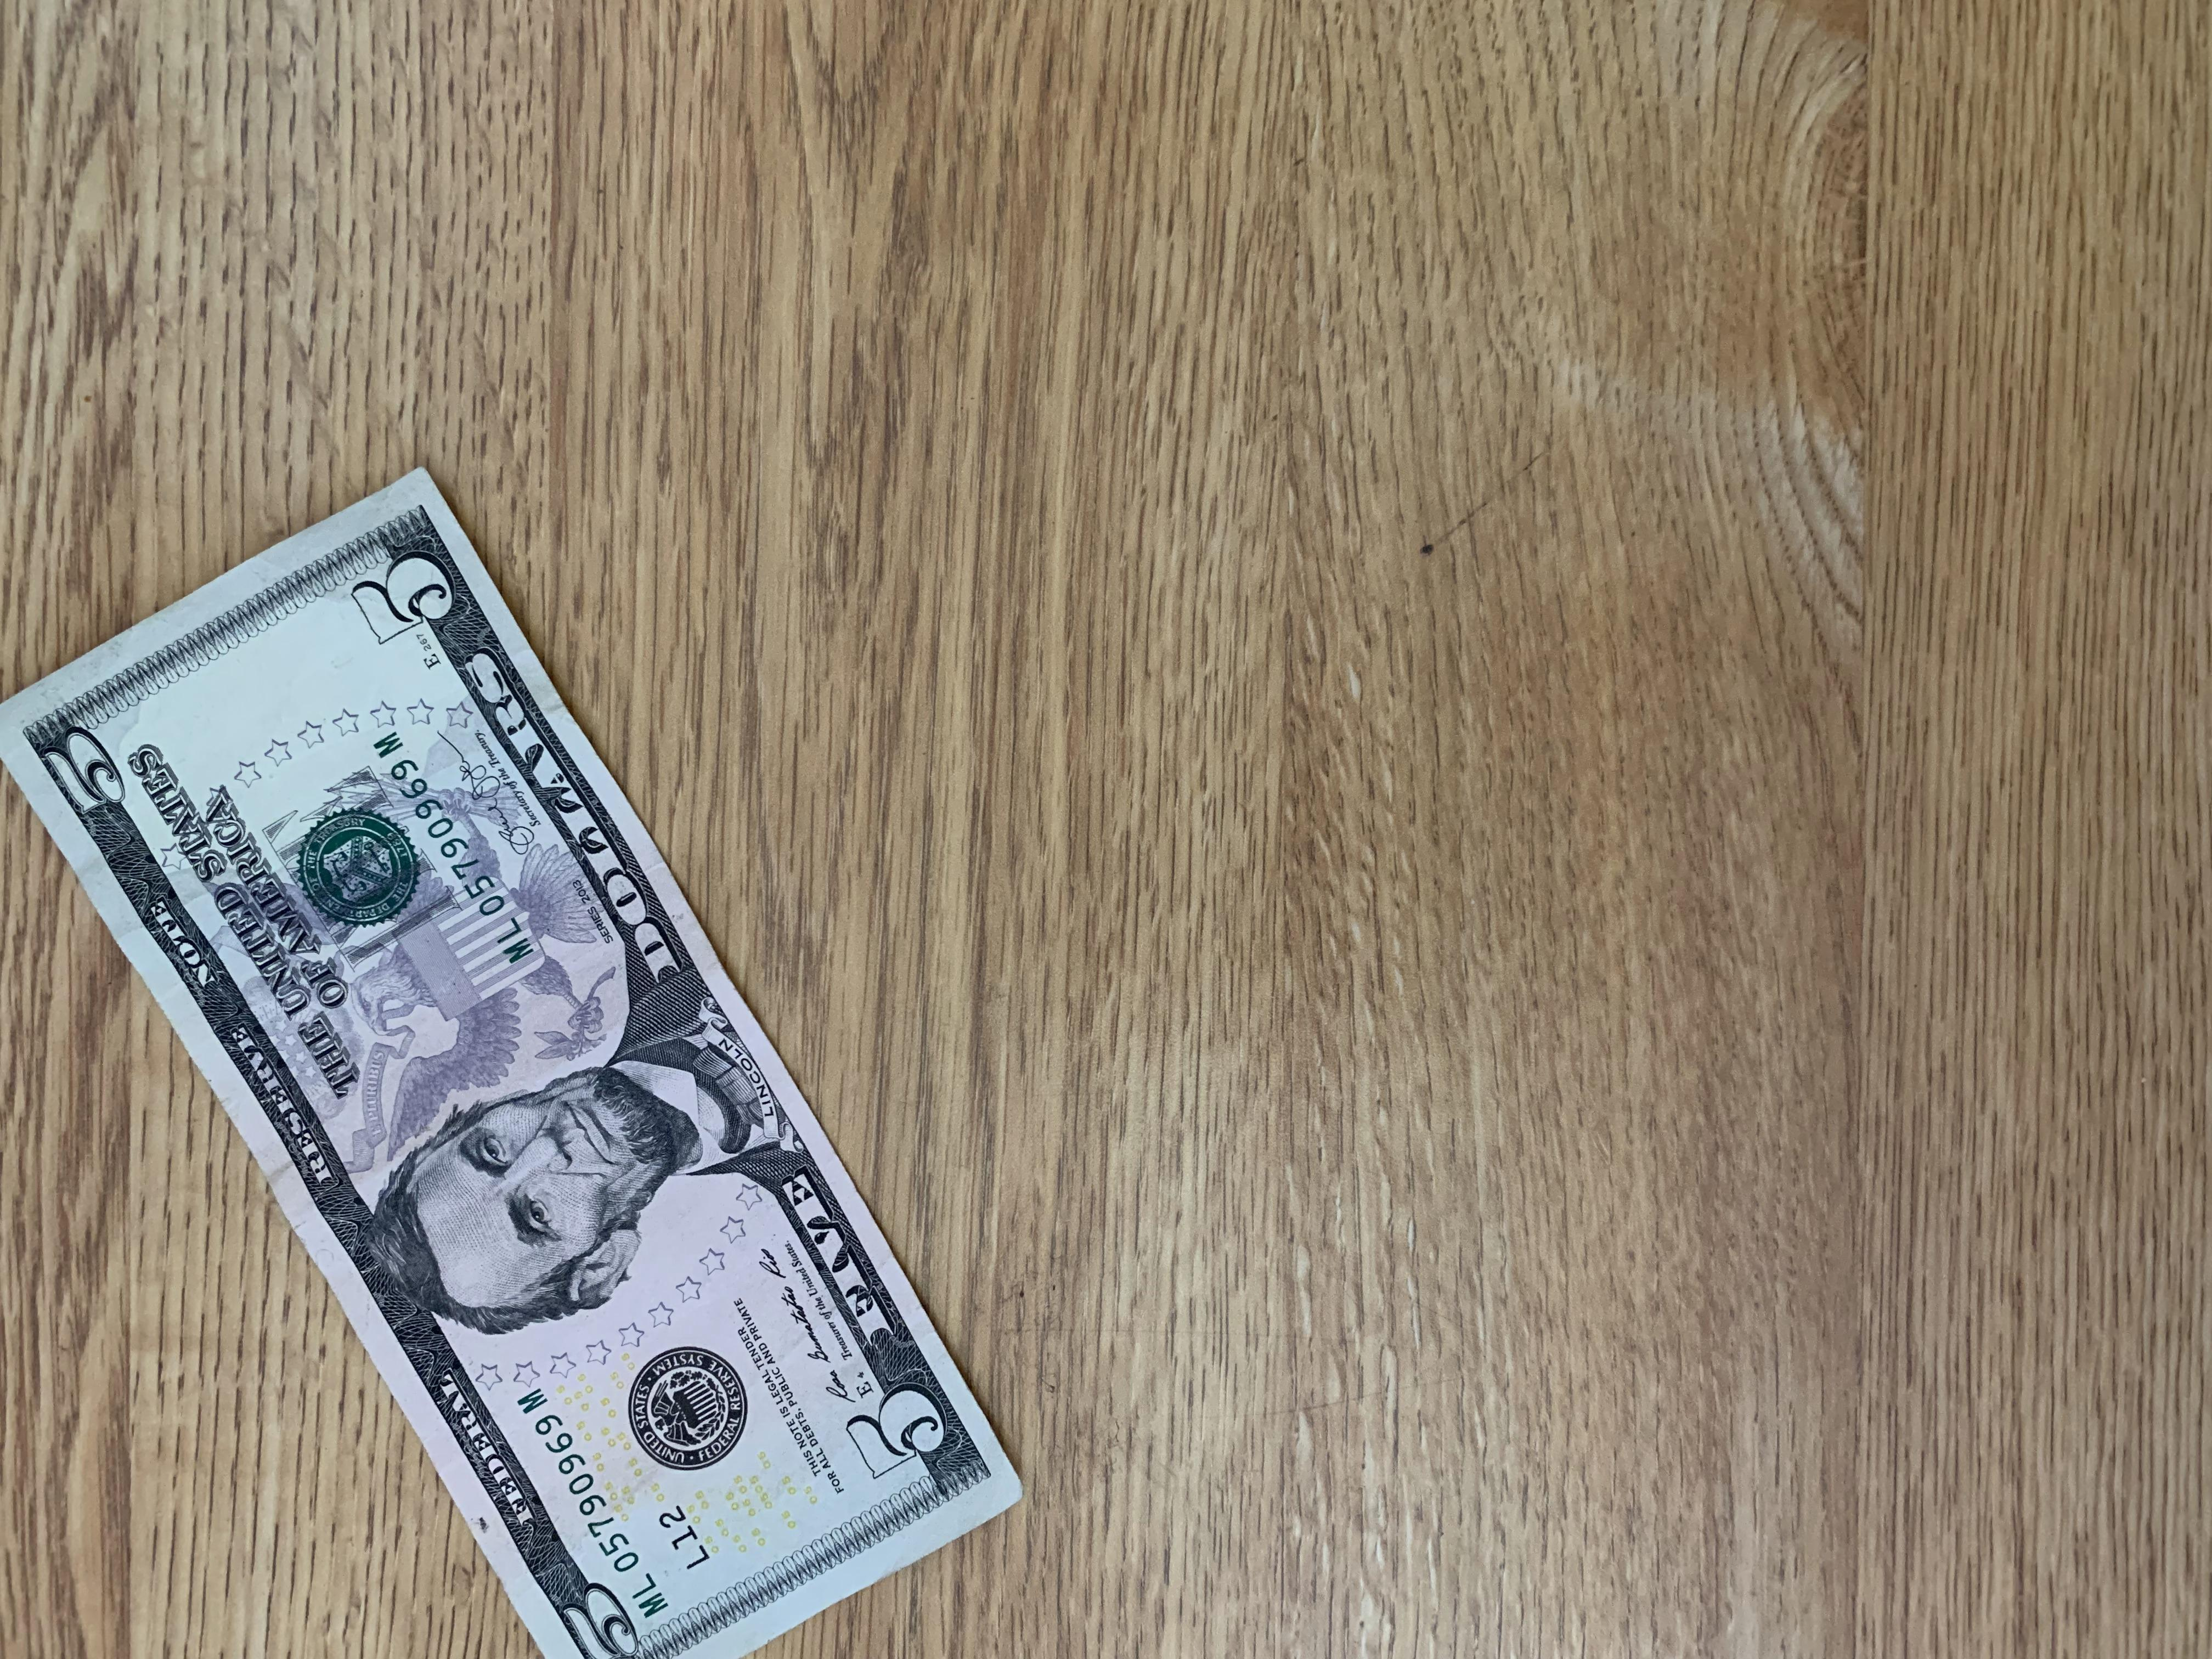FiveBill: (2, 453, 1012, 1657)
